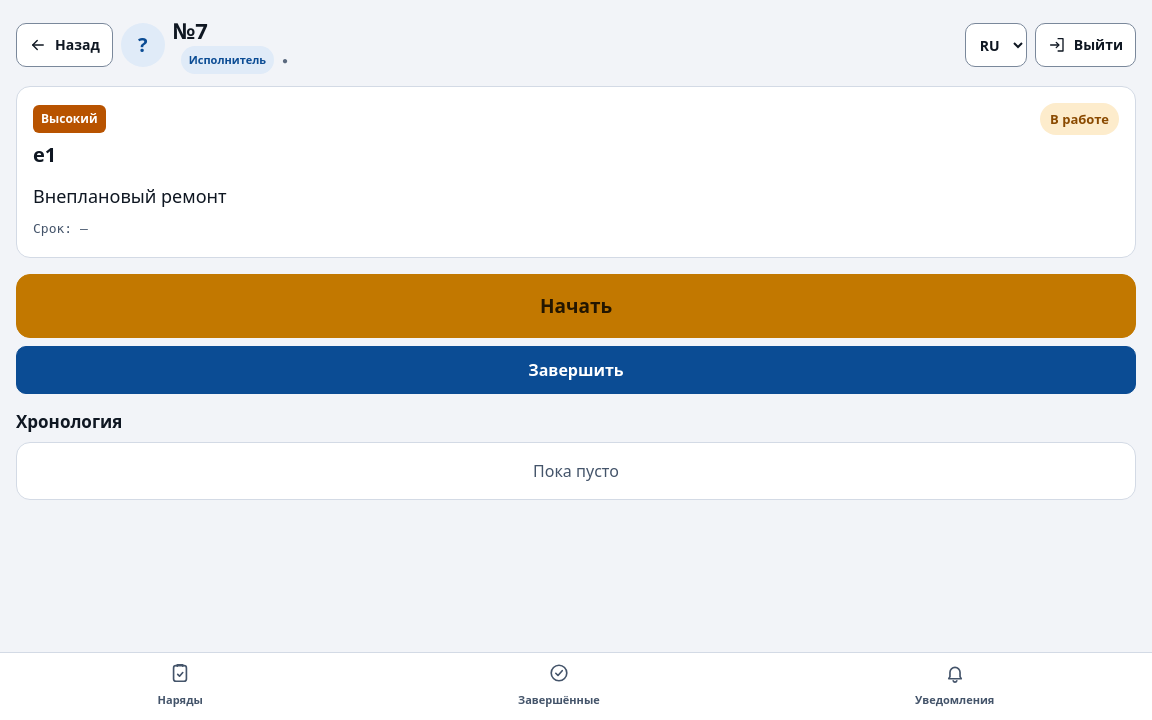
WorkerOrder AI and timeline › applies suggested fault code
Step 1. Click the button "Завершить" → [576, 370], box [16,346,1136,394]
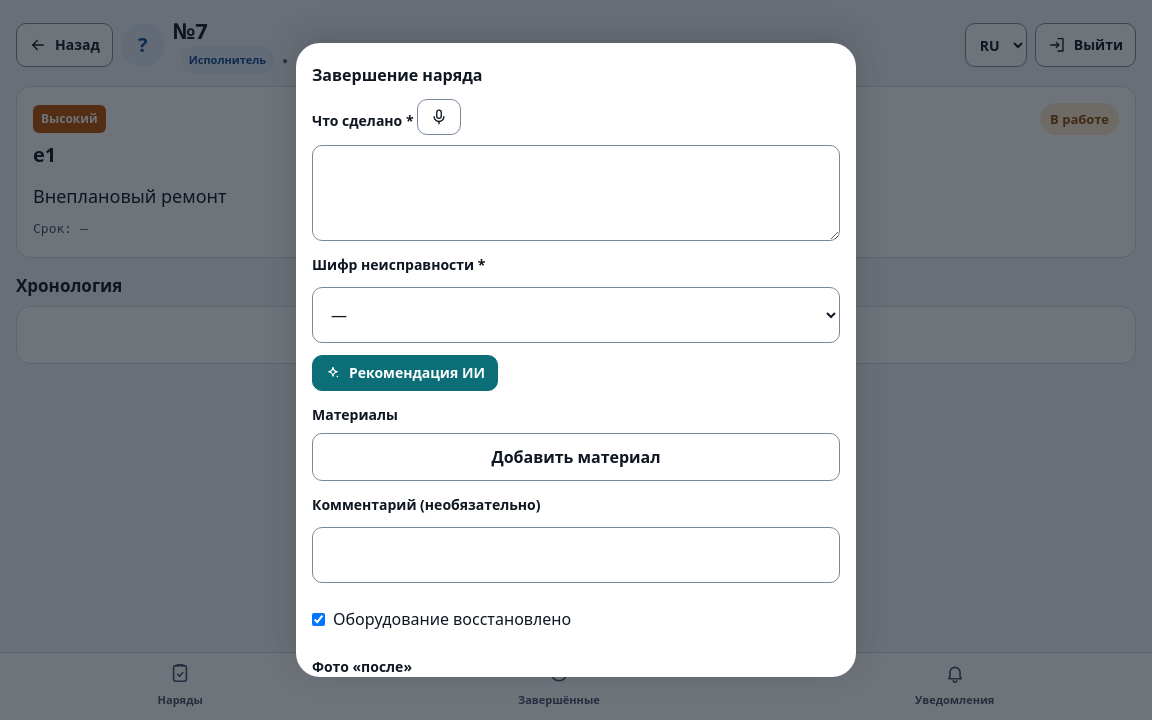
Step 2. Click the button "Рекомендация ИИ" → [405, 373], box [312,355,498,391]
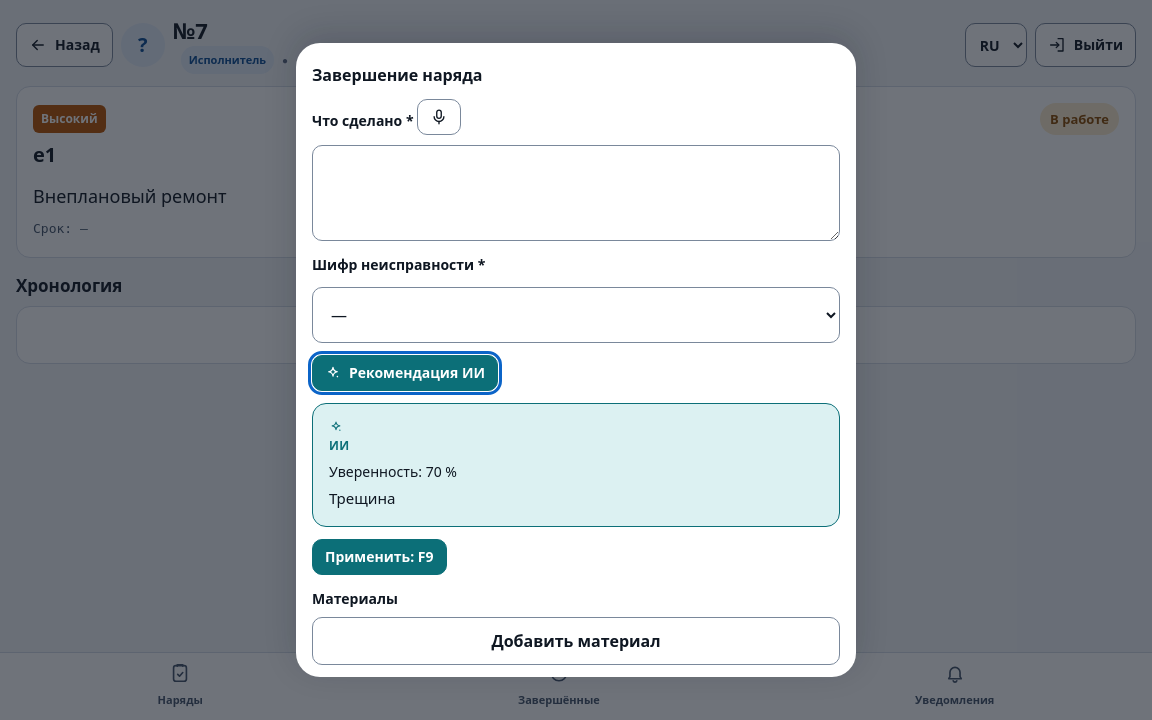
Check: the button "Применить: F9" is shown
Step 3. Click the button "Применить: F9" → [379, 557], box [312,539,446,575]
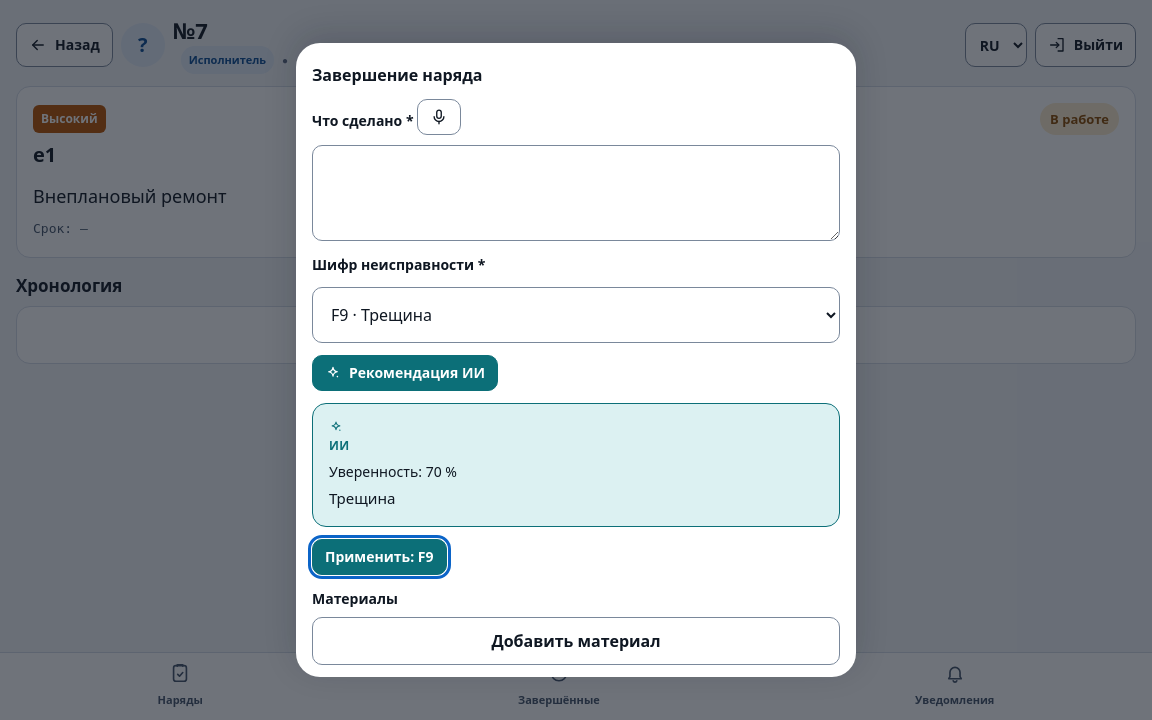
Check: the dropdown labelled "Шифр неисправности *" shows "F9 · Трещина", box [312,287,840,343]
